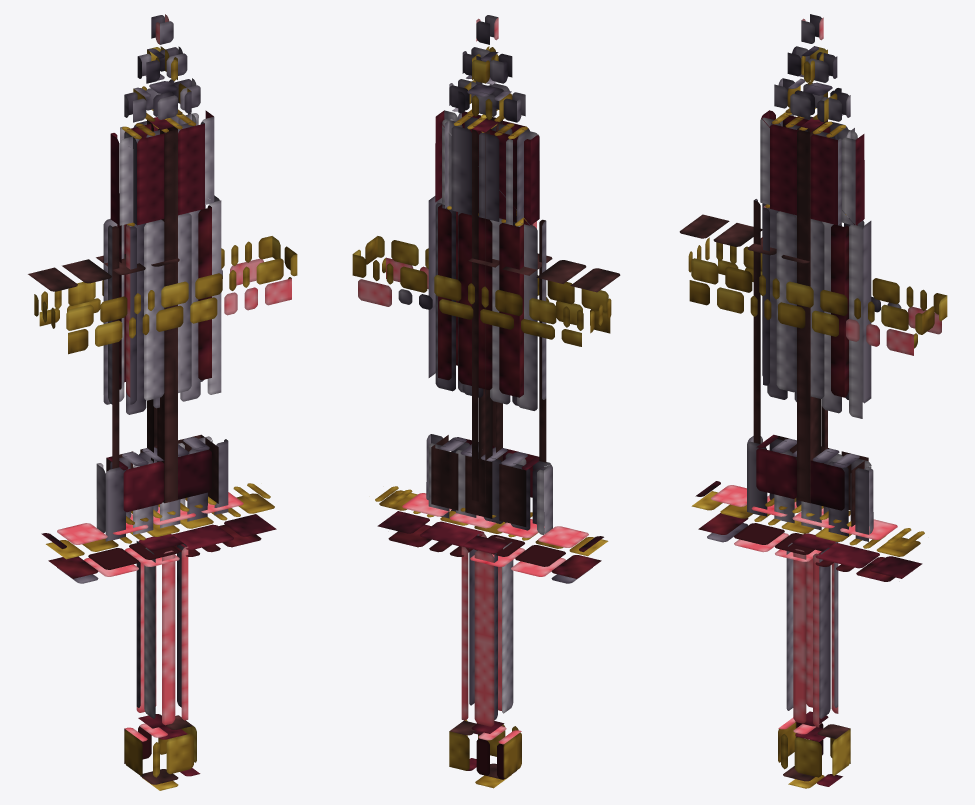
Rendered from kingsplitter.obj.
3 renders of one model, left to right at view 1: azimuth 30°, elevation 25°; view 2: azimuth 150°, elevation 25°; view 3: azimuth 330°, elevation 25°, orthographic.
Visible parts, largest first — view 1: lit, fire; view 2: lit, fire; view 3: lit, fire.
Part boxes in pixels (bbox=[...]): lit: bbox=[28, 14, 297, 790]; fire: bbox=[147, 117, 177, 503]; lit: bbox=[352, 15, 620, 788]; fire: bbox=[472, 117, 502, 502]; lit: bbox=[679, 14, 947, 788]; fire: bbox=[797, 118, 827, 503].
Size of the model in its own units: 1.25 by 3.34 by 0.2533.
